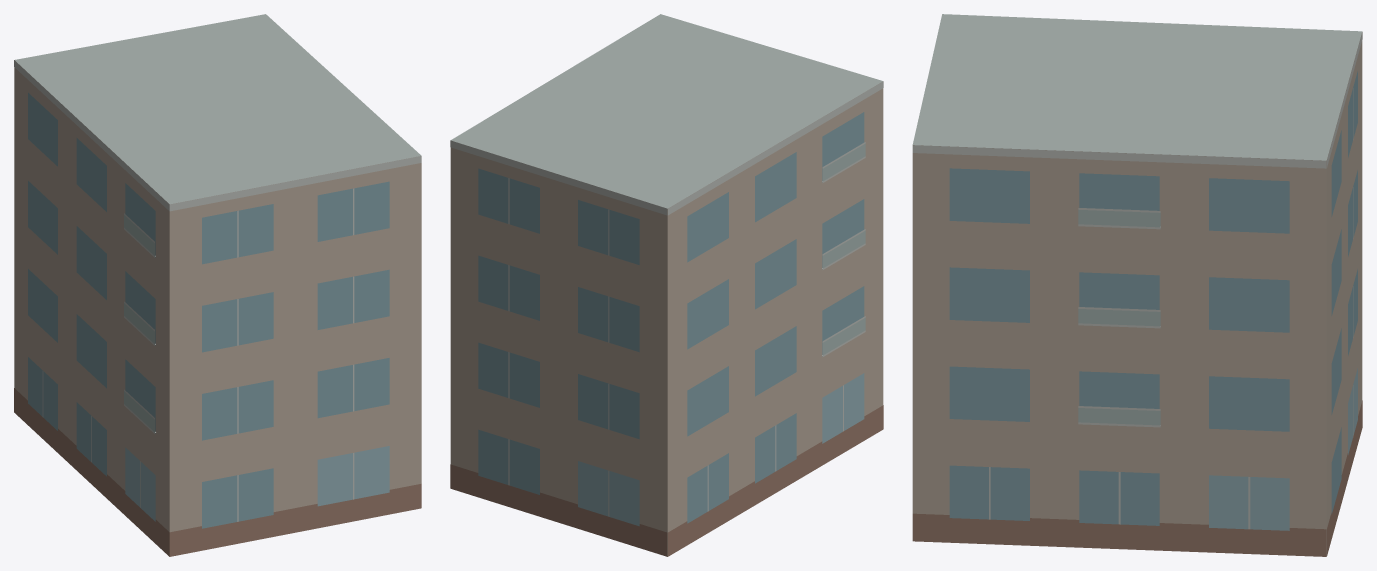
Rendered from survey-upis-32831382.glb.
3 renders of one model, left to right at view 1: azimuth 30°, elevation 25°; view 2: azimuth 150°, elevation 25°; view 3: azimuth 270°, elevation 25°, orthographic. The views are drawn at different scales.
Visible parts, largest first — view 1: survey-upis-32831382.tmp; view 2: survey-upis-32831382.tmp; view 3: survey-upis-32831382.tmp.
Boxes of the visible parts, left/top/right/bottom form: survey-upis-32831382.tmp: left=14, top=14, right=421, bottom=556; survey-upis-32831382.tmp: left=450, top=14, right=883, bottom=556; survey-upis-32831382.tmp: left=912, top=14, right=1362, bottom=556.
Size of the model in its own units: 9.69 by 12.2 by 12.56.
